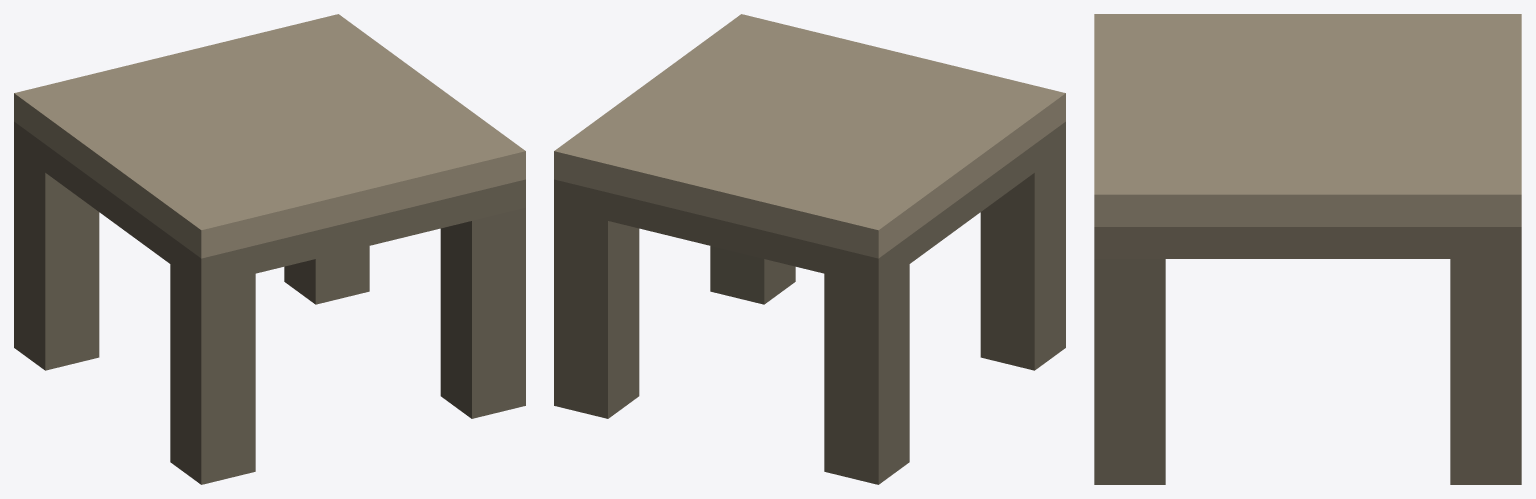
Rendered from mesa_raspado_desgastada_01.glb.
The picture shows the model from 3 angles, left to right: view 1: azimuth 30°, elevation 25°; view 2: azimuth 150°, elevation 25°; view 3: azimuth 270°, elevation 25°; orthographic projection. The views are drawn at different scales.
Parts seen in each view (by area): view 1: mesa_raspado_desgastada; view 2: mesa_raspado_desgastada; view 3: mesa_raspado_desgastada.
Boxes of the visible parts, bbox=[...] form: mesa_raspado_desgastada: bbox=[14, 14, 525, 484]; mesa_raspado_desgastada: bbox=[554, 14, 1065, 484]; mesa_raspado_desgastada: bbox=[1094, 14, 1521, 484].
Size of the model in its own units: 1 by 0.75 by 1.
